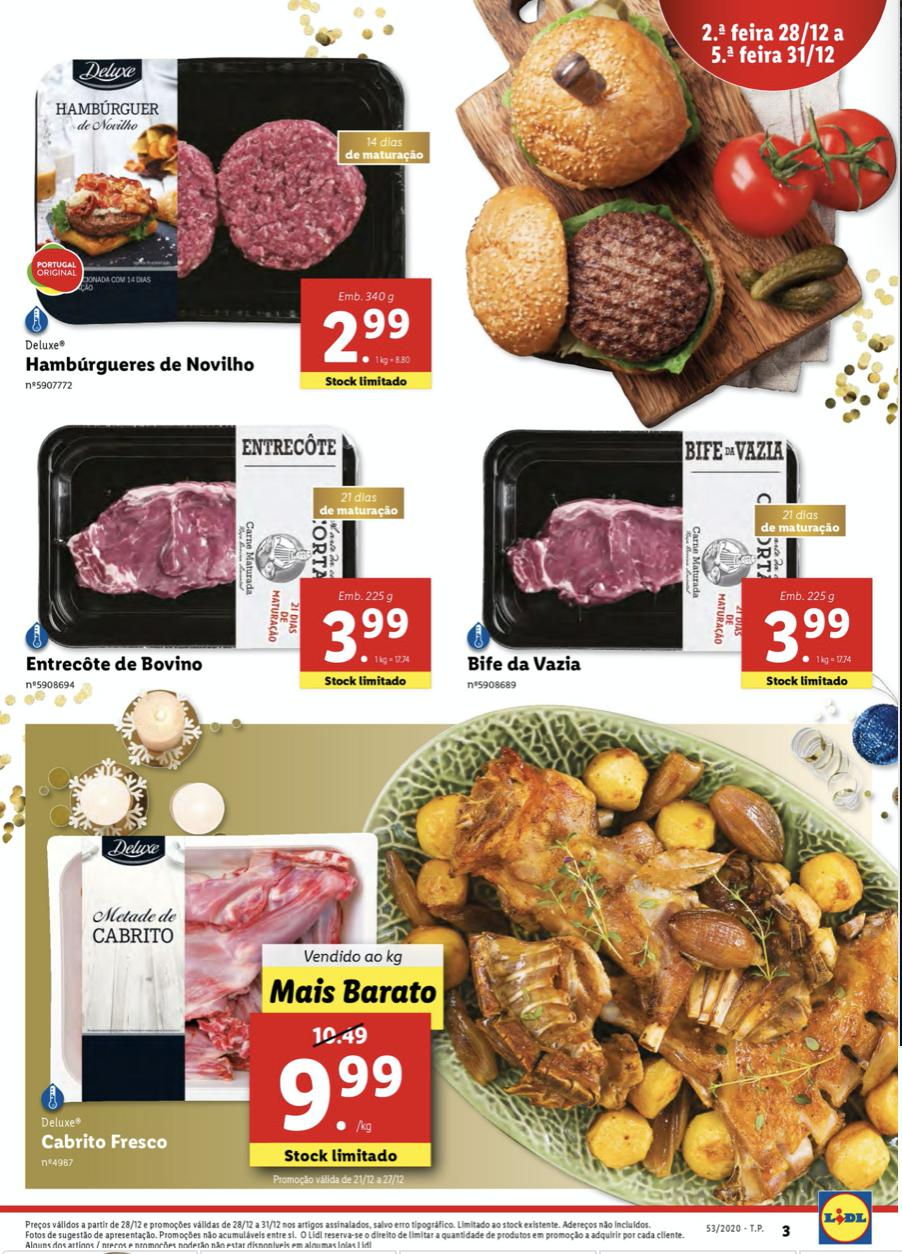name: (24, 353, 261, 379), (21, 654, 208, 676), (32, 1129, 179, 1153), (461, 649, 586, 676)
price: (271, 1053, 408, 1138), (761, 603, 855, 670), (319, 306, 419, 368), (318, 601, 413, 665)
product: (19, 798, 449, 1184), (10, 31, 454, 401), (13, 417, 446, 704), (446, 421, 886, 703)
